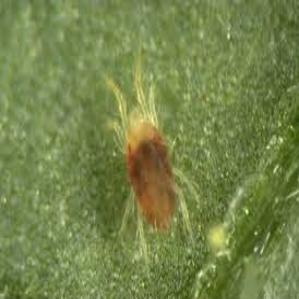spider mite: (90, 52, 216, 272)
